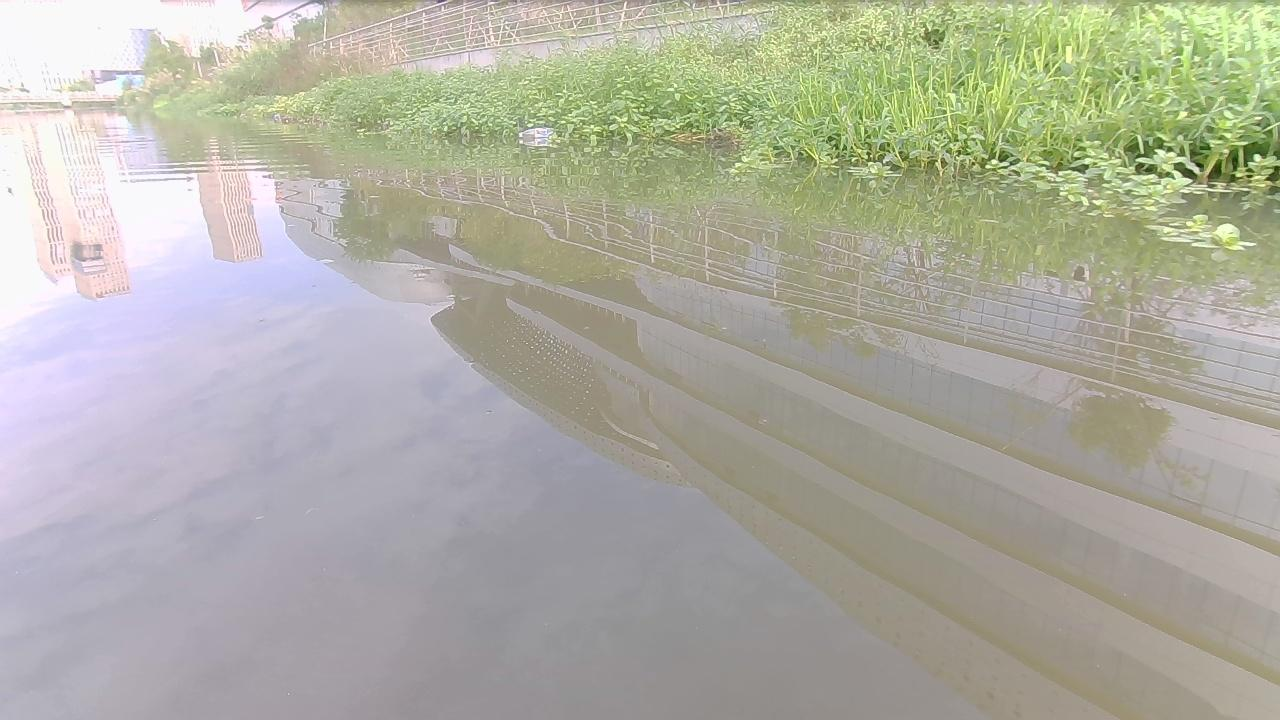bottle: (516, 124, 565, 145)
